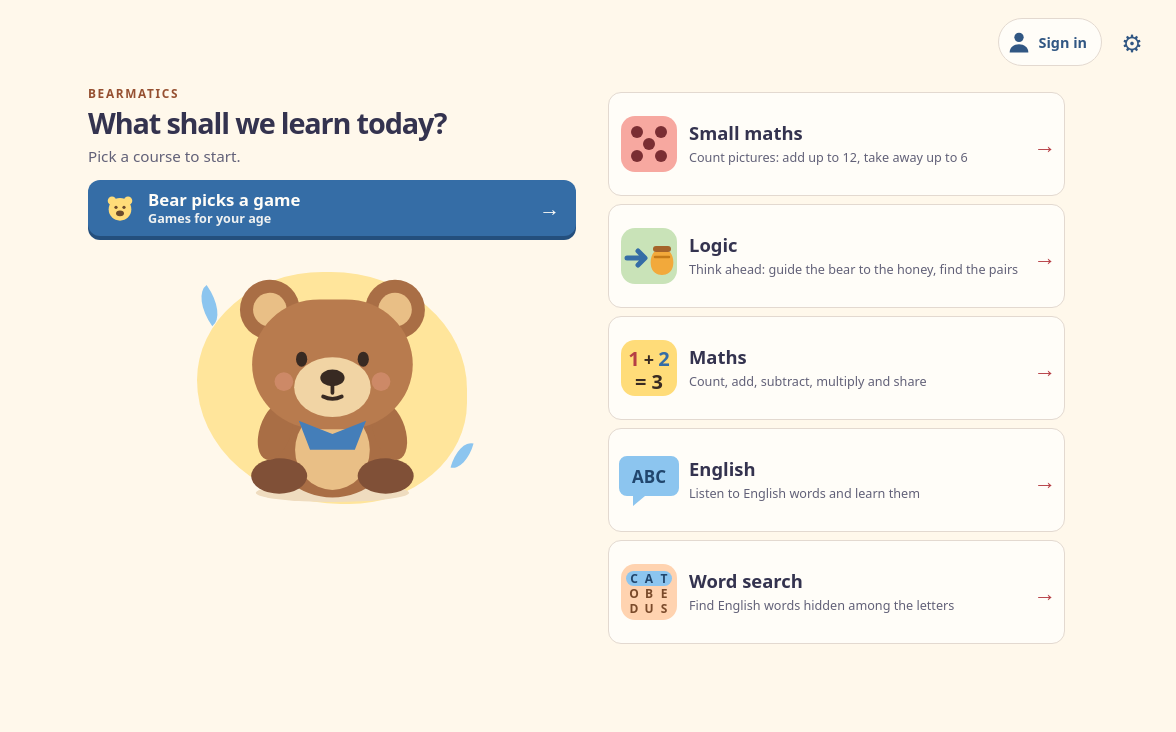
Test case: turns (AC 4, 11) › heading focused; card names; a pair stays found with a polite message
Click the button "Logic": (649, 256) [608,204,1065,308]
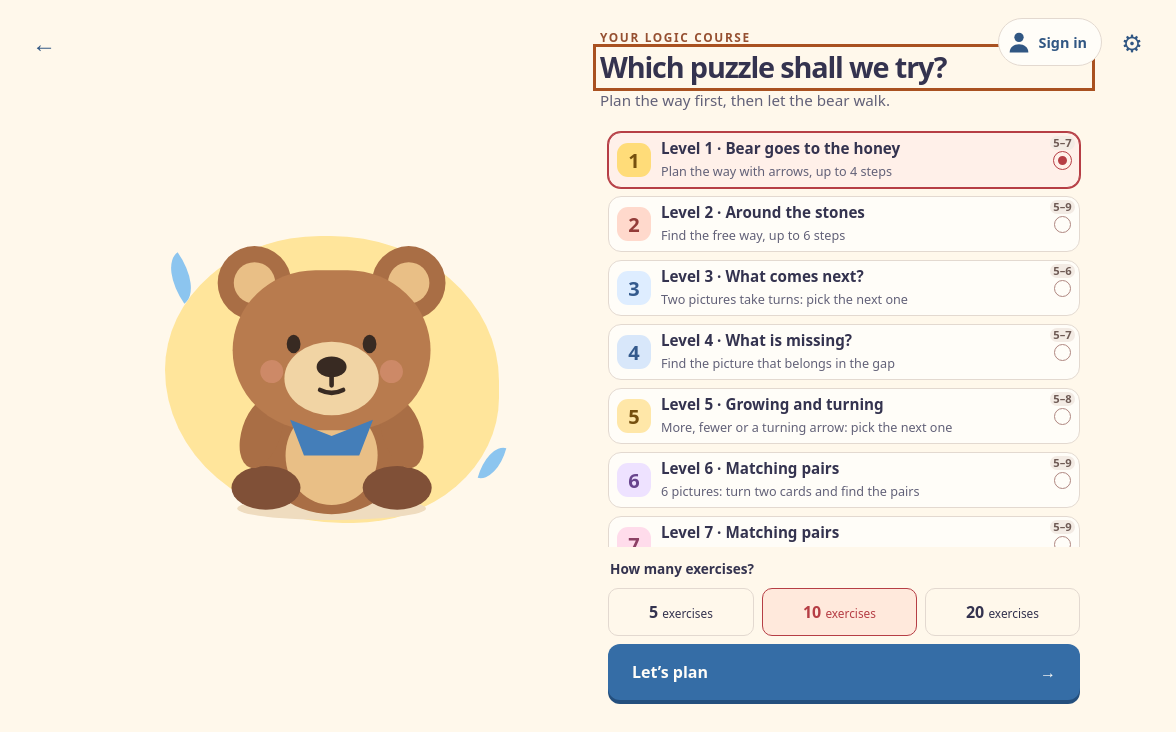
Click the radio button labelled "Level 6 ·": (844, 480) [608,452,1080,508]
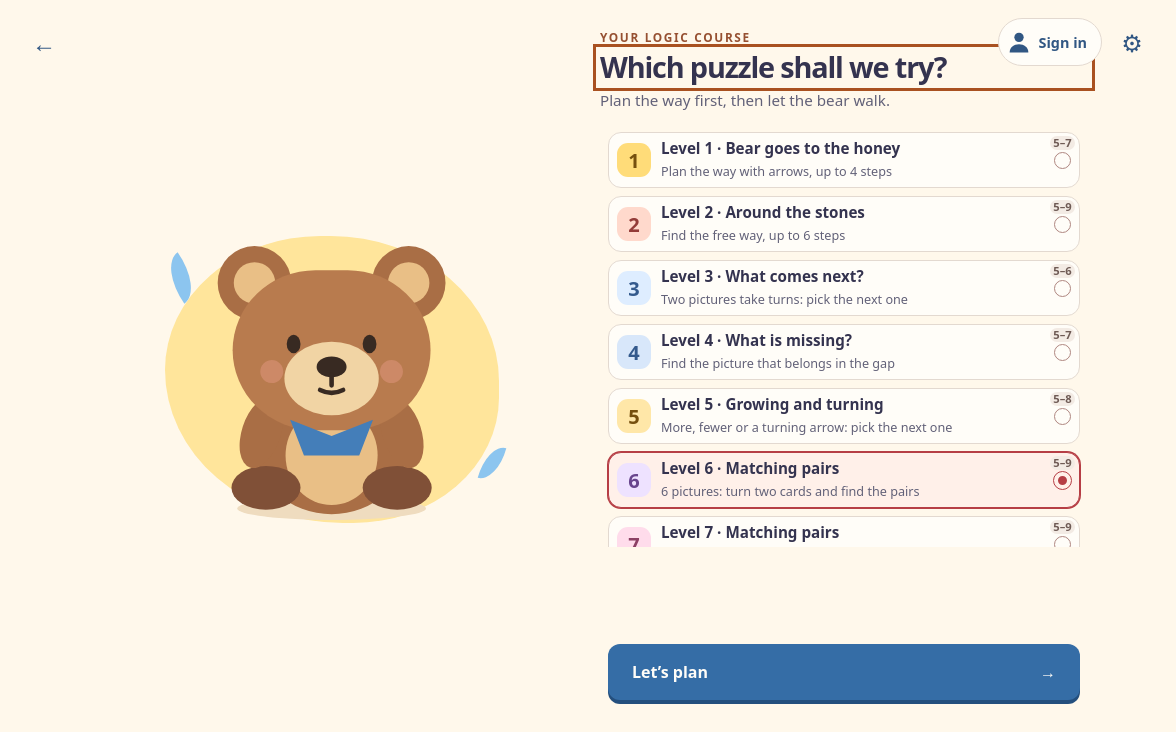
Click the button "Let’s plan →": (670, 672) [608,644,1080,700]
Wait 1010 ms
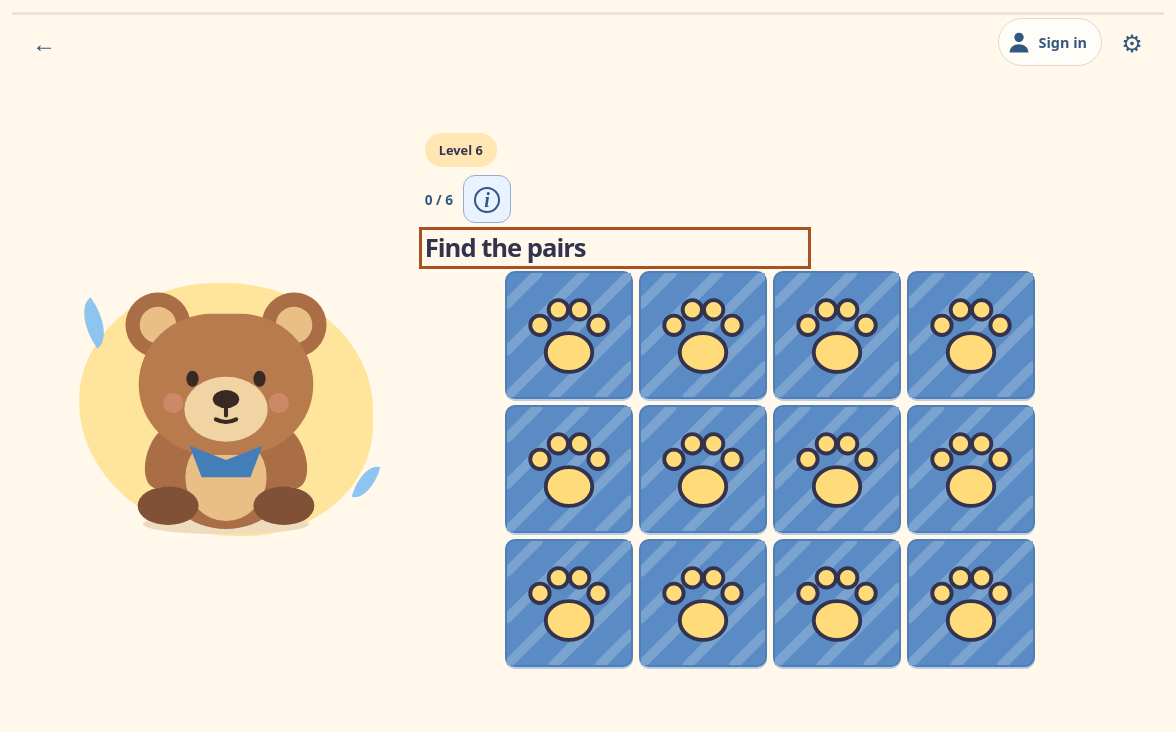
Check: the heading reads "Find the pairs", box [425,230,586,265]
Click the button named "Card 1, face down": (569, 335) [505,271,633,399]
Wait 310 ms
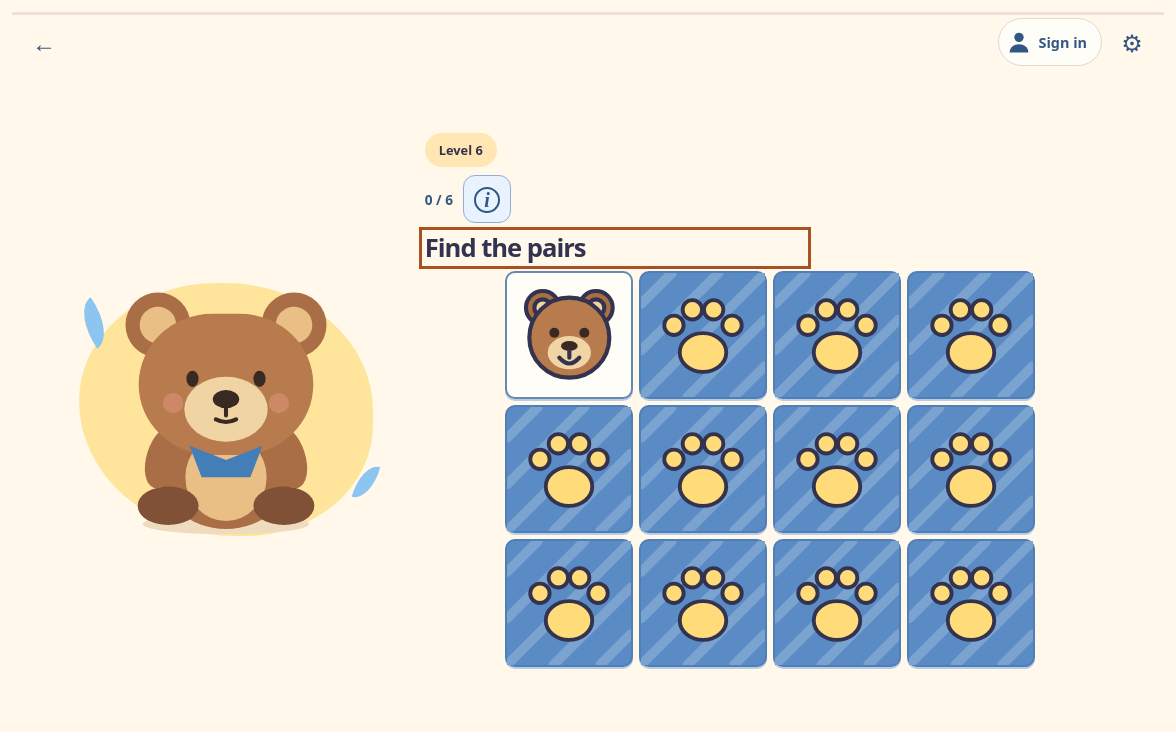
Click the button named "Card 7, face down": (837, 469) [773,405,901,533]
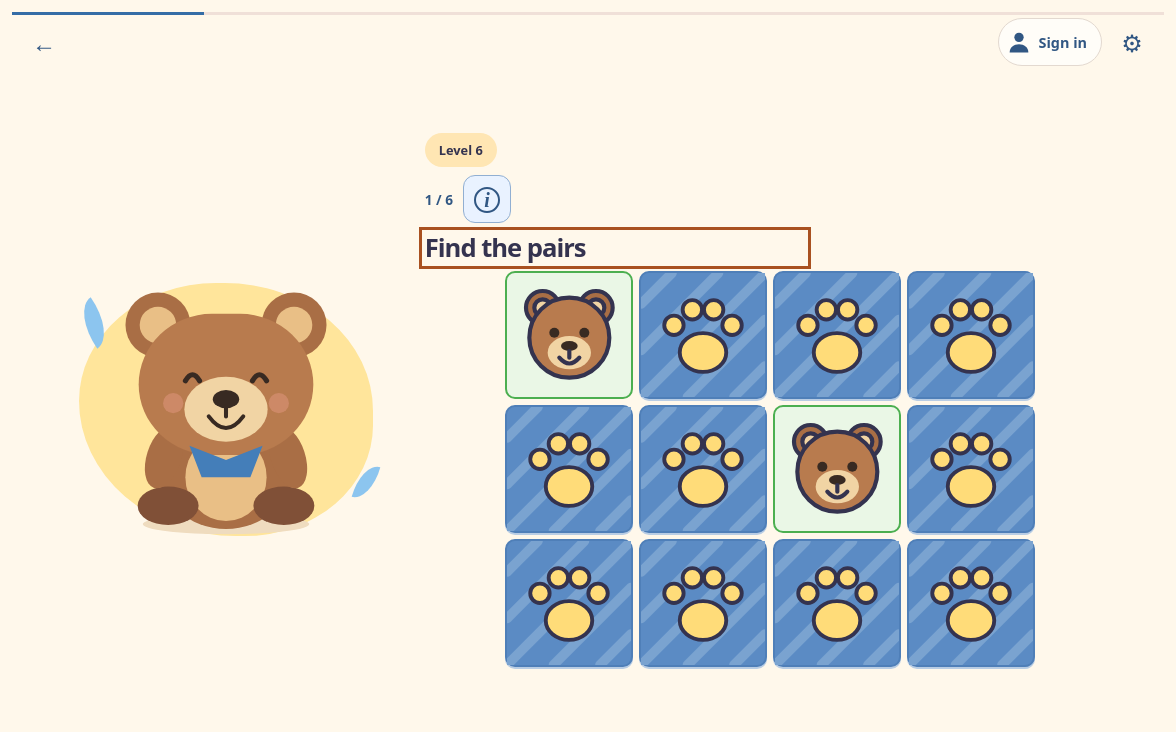
Check: the element showing "1 / 6" is shown, box [425,190,453,209]
